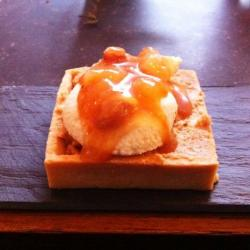apple_pie: (39, 61, 230, 198)
icecream: (65, 66, 182, 156)
